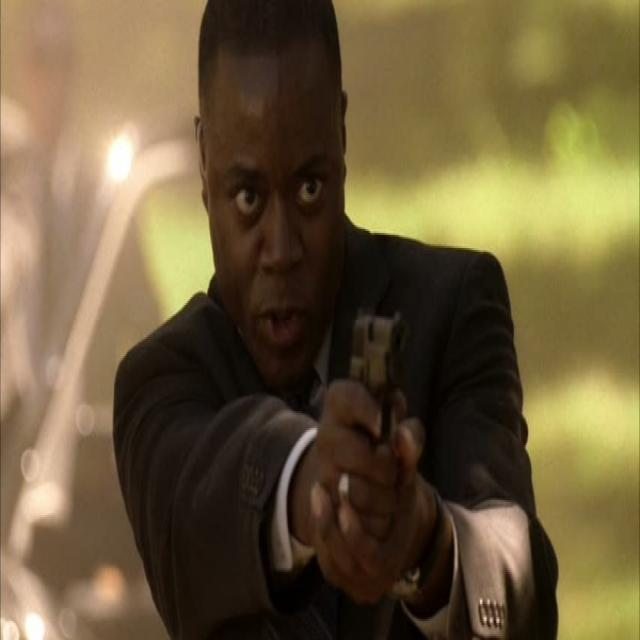weapons: (341, 290, 422, 502)
